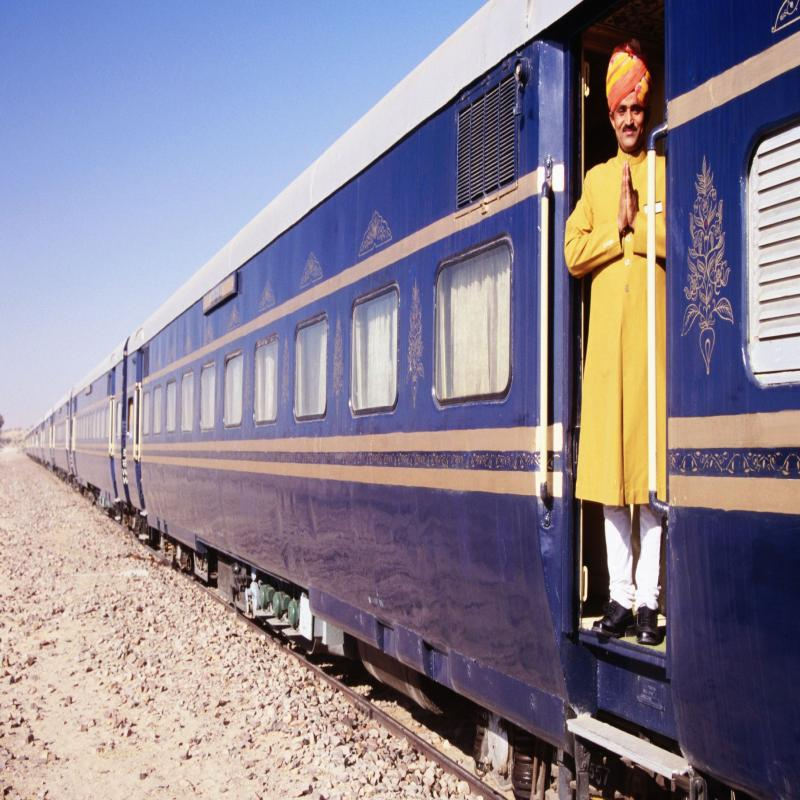train: (68, 196, 526, 593)
